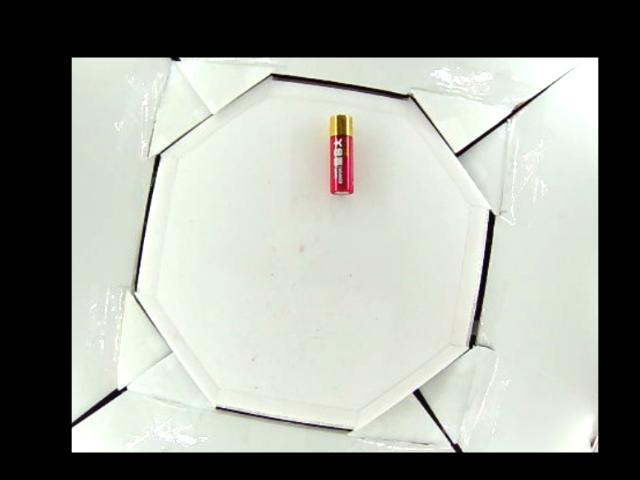Battery: (330, 113, 353, 195)
